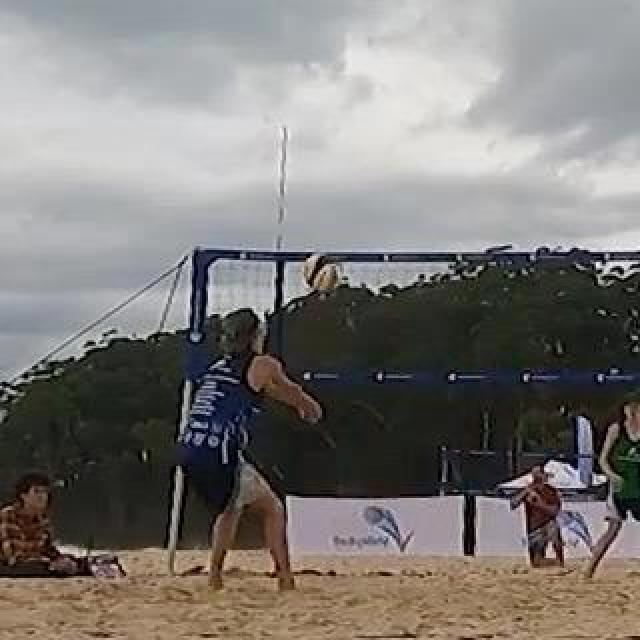volleyball: (303, 258, 337, 294)
